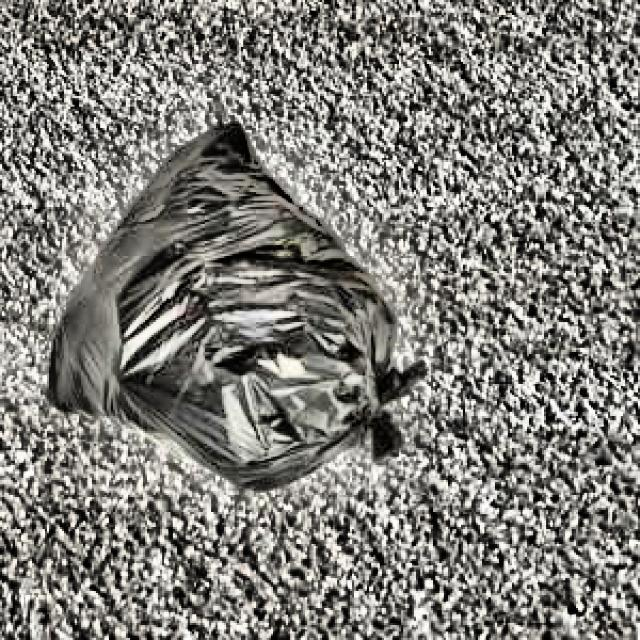Trashbag: (37, 121, 422, 496)
